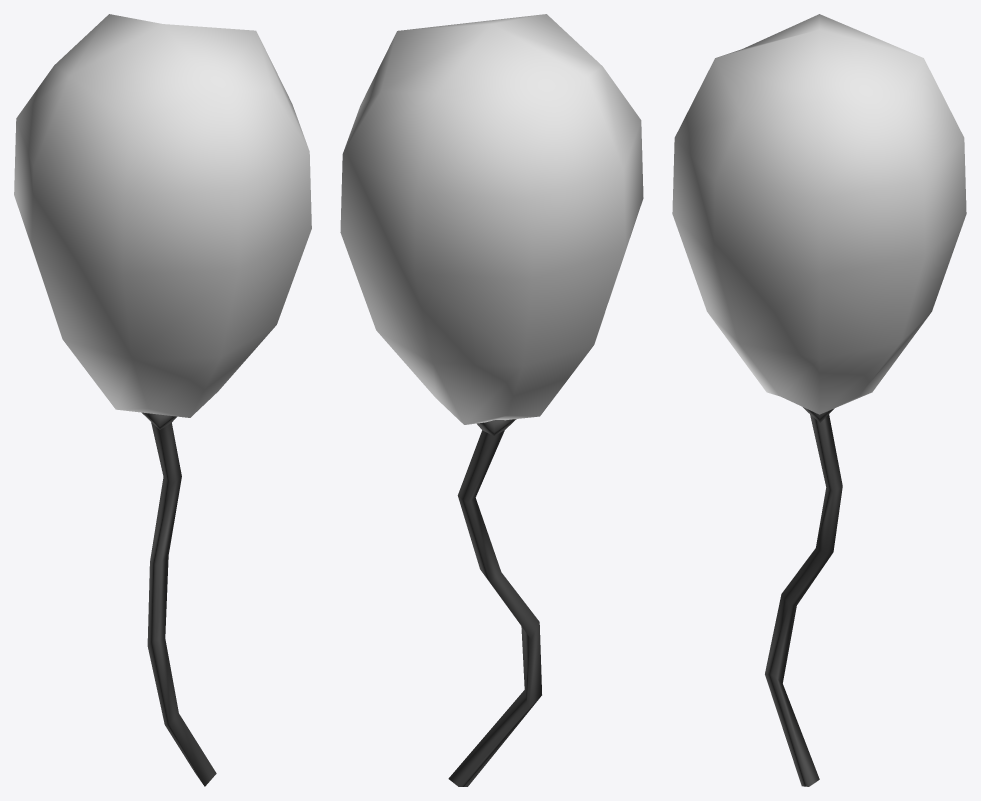
The model's file is Balloon.fbx.
3 renders of one model, left to right at view 1: azimuth 30°, elevation 25°; view 2: azimuth 150°, elevation 25°; view 3: azimuth 270°, elevation 25°, orthographic. The views are drawn at different scales.
Parts seen in each view (by area): view 1: pCylinder2; view 2: pCylinder2; view 3: pCylinder2.
Part boxes in pixels (x1,y1,x2,y2): pCylinder2: (14, 14, 311, 786); pCylinder2: (340, 14, 643, 786); pCylinder2: (672, 14, 966, 786).
Bounding box in the file's own units: 84.28 × 234 × 84.28.
